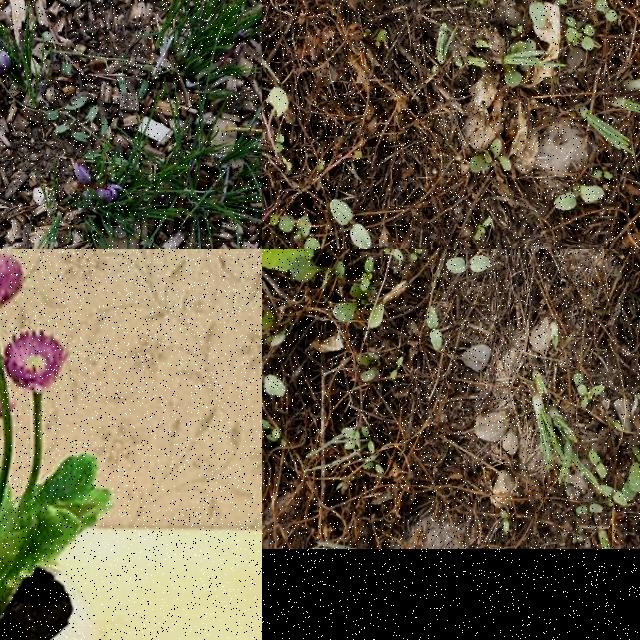flower: (93, 175, 123, 203), (74, 158, 92, 186), (0, 50, 12, 71)
